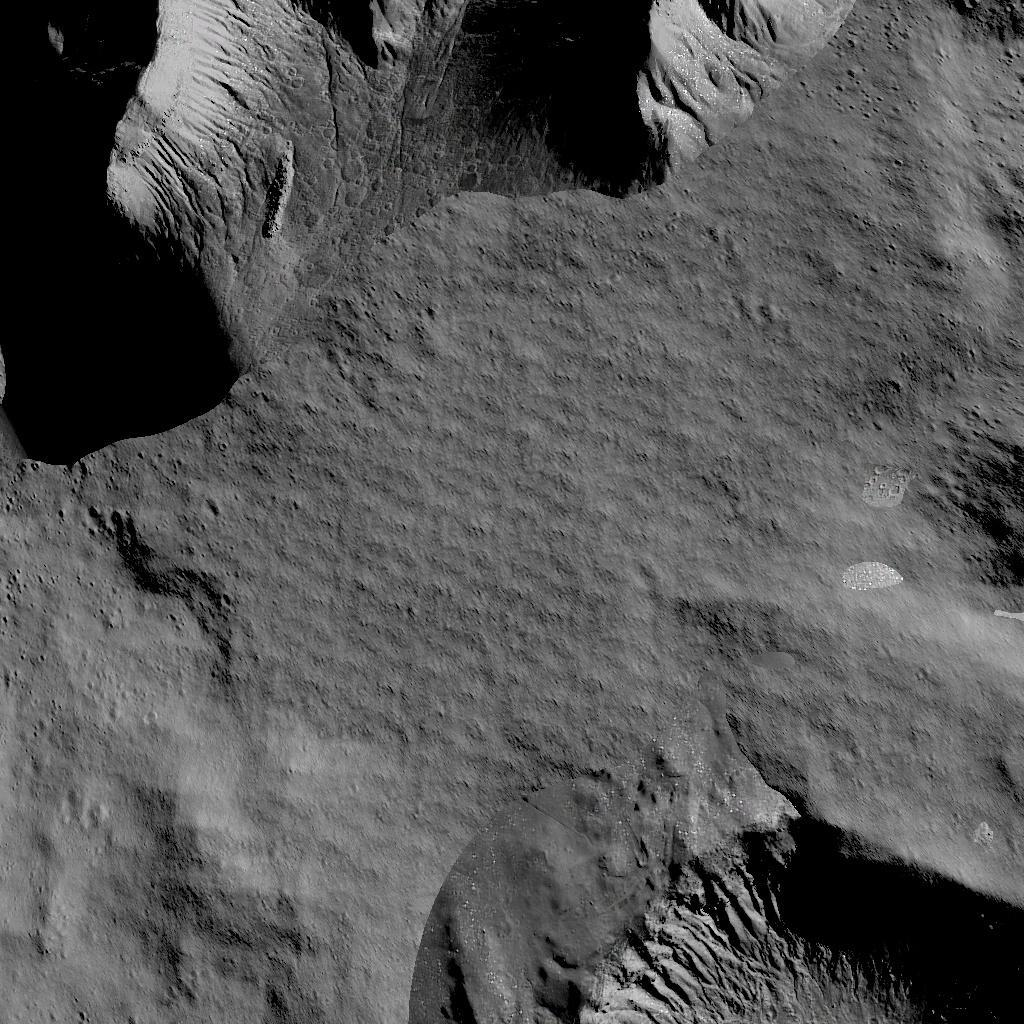Boulders: (0, 0, 860, 463)
Crater: (413, 688, 1024, 1024)
Plan surface: (6, 682, 393, 1024), (261, 482, 905, 668)
